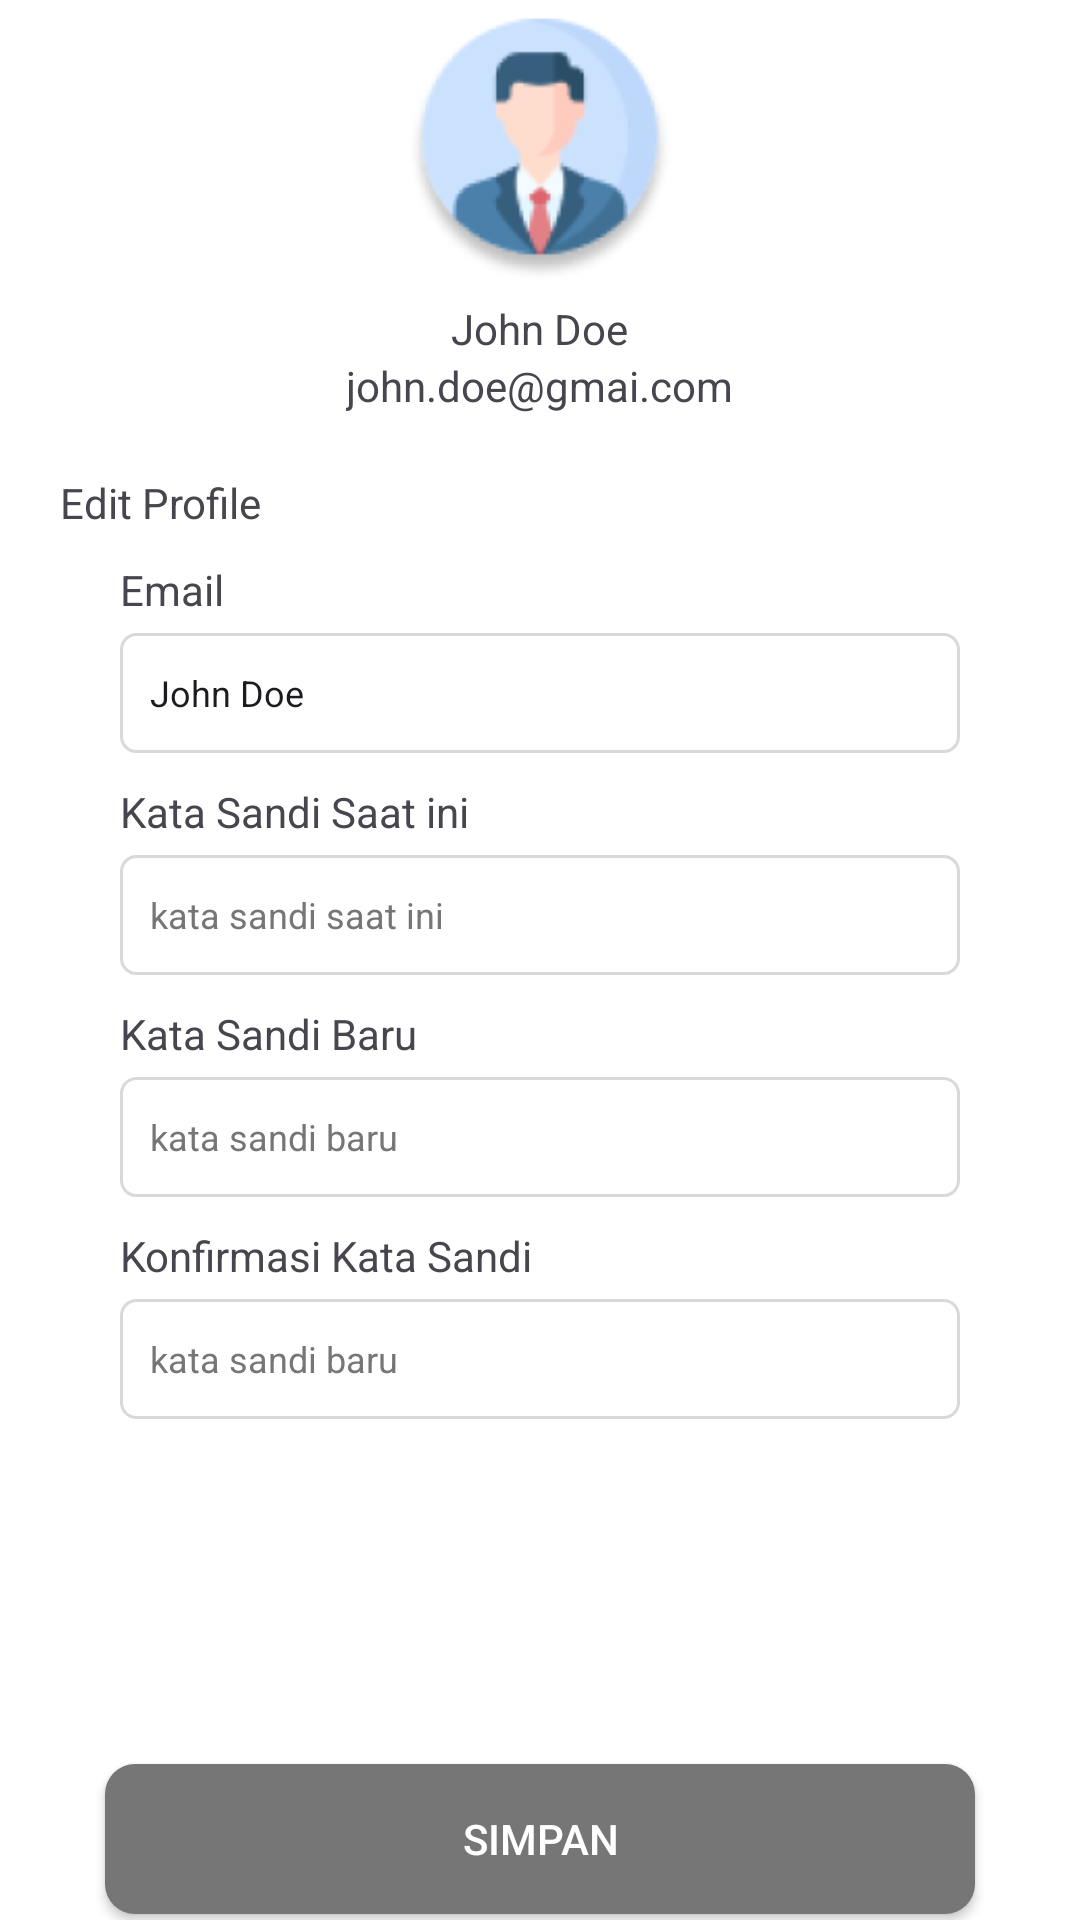

Where to tap for icons on this 1080px×1920px app screen, as (x,y):
iconprofilenav: (540,144)
